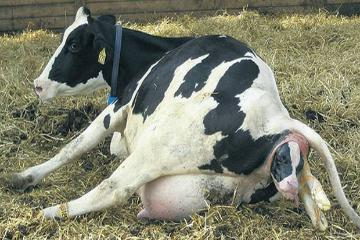cow: (29, 3, 308, 216)
